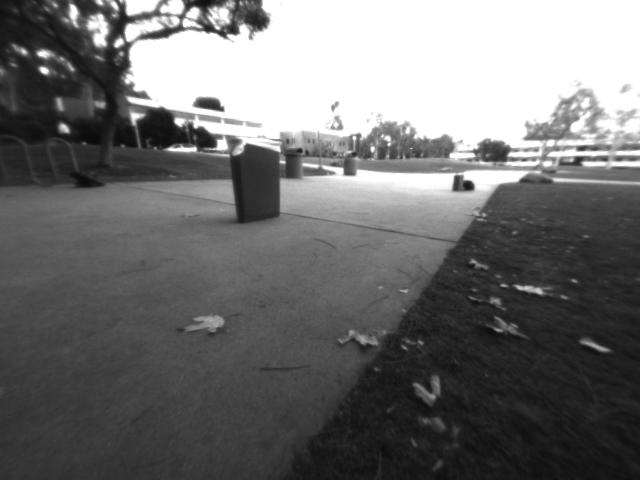trashcan_open: (220, 131, 286, 226)
